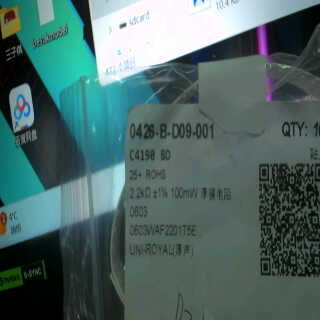2.2kR: (126, 183, 154, 203)
